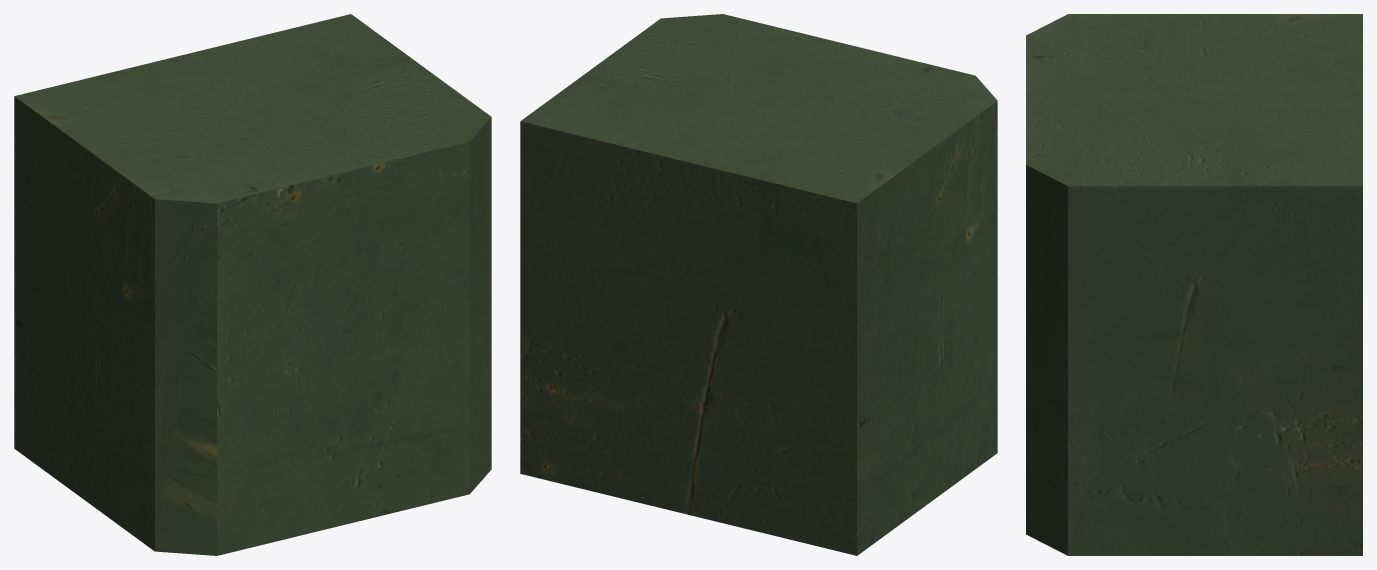
File: lock_body.obj
3 views of the same model, side by side, from view 1: azimuth 30°, elevation 25°; view 2: azimuth 150°, elevation 25°; view 3: azimuth 270°, elevation 25° (orthographic). The views are drawn at different scales.
Parts seen in each view (by area): view 1: Cube; view 2: Cube; view 3: Cube.
Boxes of the visible parts, x1,y1,x2,y2 form: Cube: [14, 14, 491, 555]; Cube: [520, 14, 997, 555]; Cube: [1026, 14, 1362, 555].
Bounding box in the file's own units: 2 × 2 × 1.65.
1 material, 1 textured.
